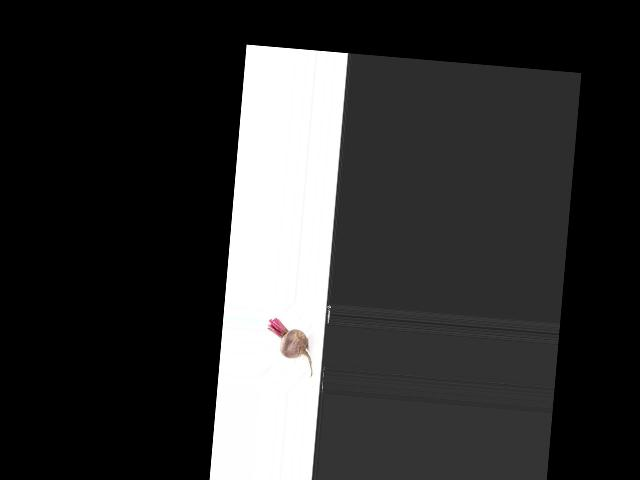beet: (264, 318, 316, 377)
